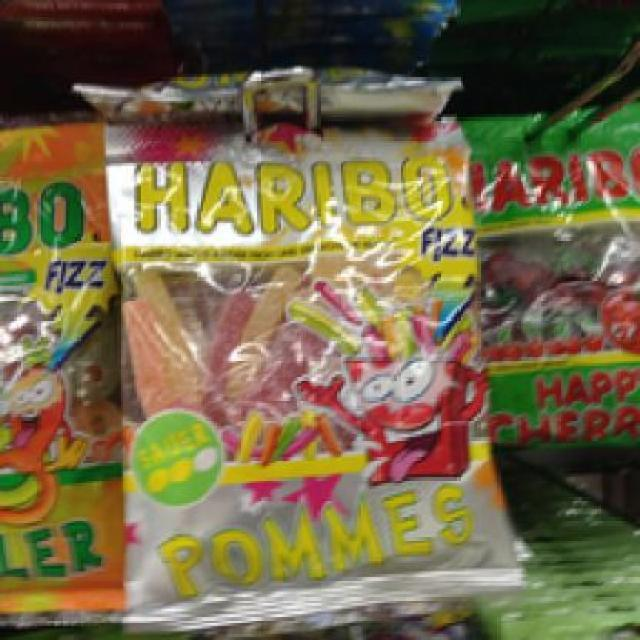Candy: (96, 99, 512, 612), (440, 91, 637, 478), (0, 100, 132, 609)
